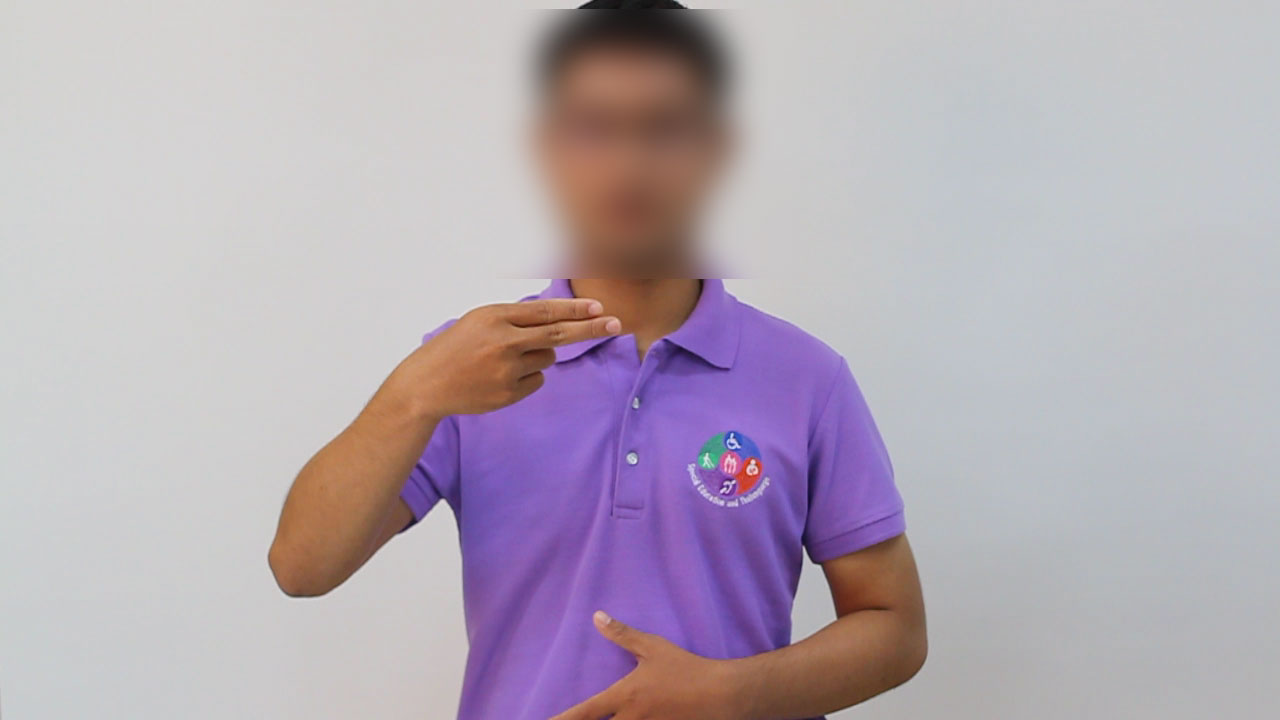hor: (386, 288, 633, 422)
